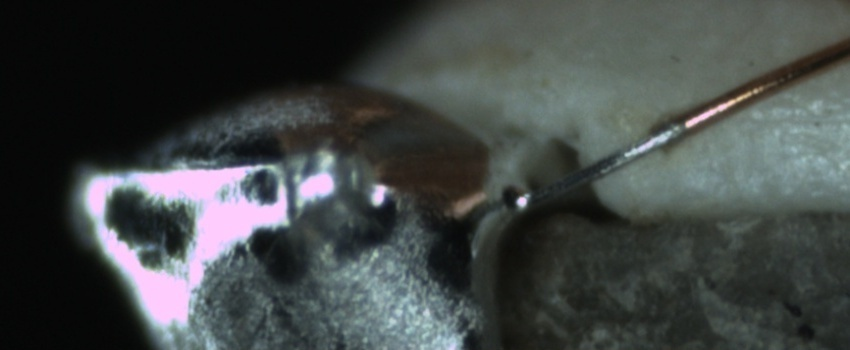DL: (733, 87, 849, 147)
TS: (514, 119, 683, 212)
